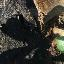Purslane: (41, 0, 64, 64)
